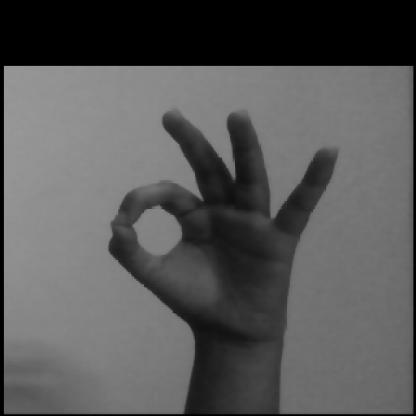ok: (62, 88, 342, 392)
